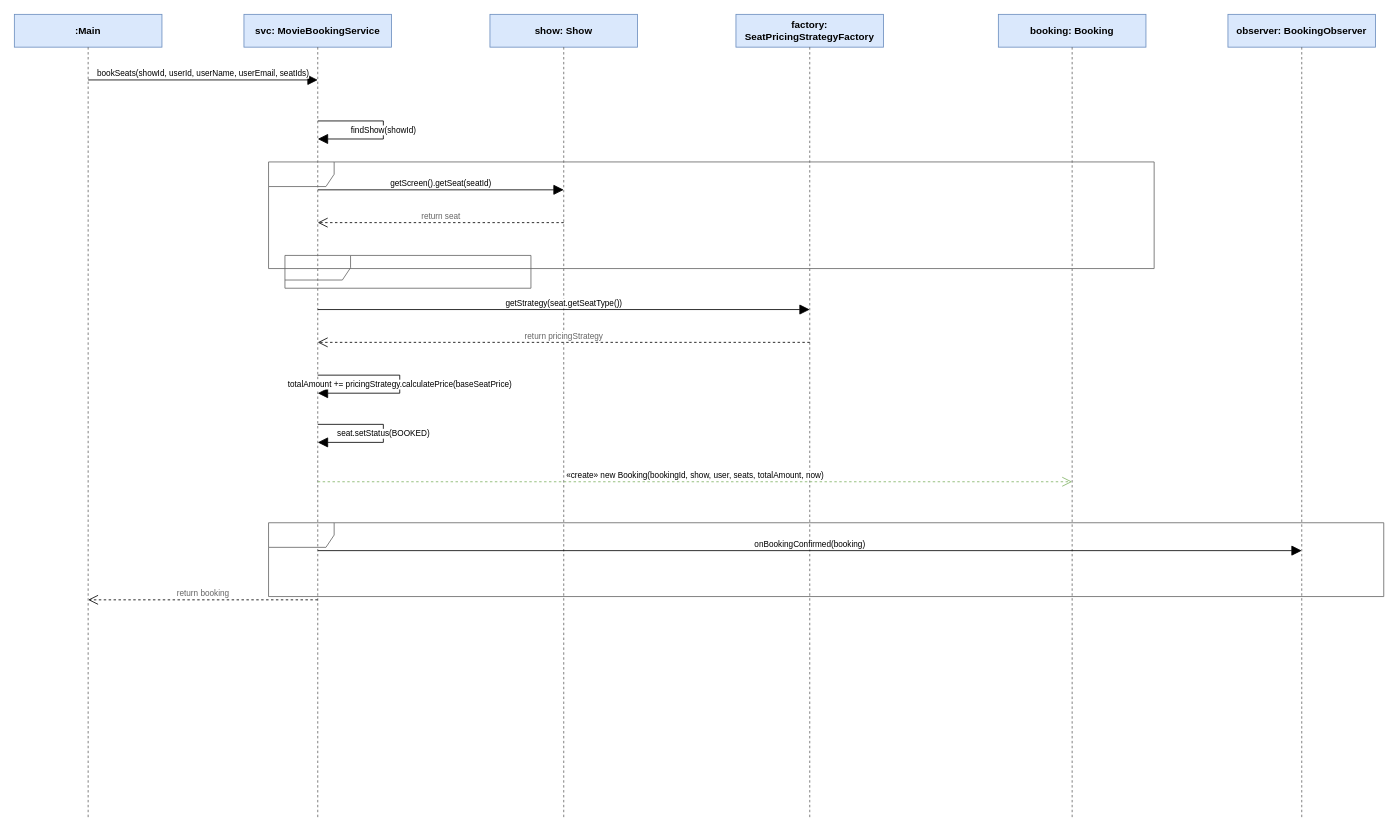
The diagram is 1398 pixels wide and 833 high, and some of its shapes have lost their labels. Here are the shapes that lost their labels. From the top down, the centre of each, then its label:
At [711,215]: "loop [for each requested seatId]".
At [407,271]: "alt [seat missing or not AVAILABLE] -> throw SeatNotAvailableException".
At [826,559]: "loop [for each registered observer]".
